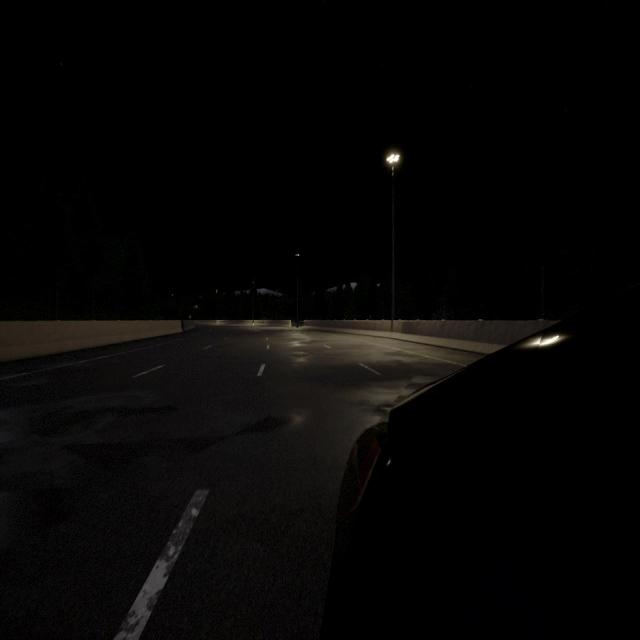Vehicle: (322, 287, 640, 637)
